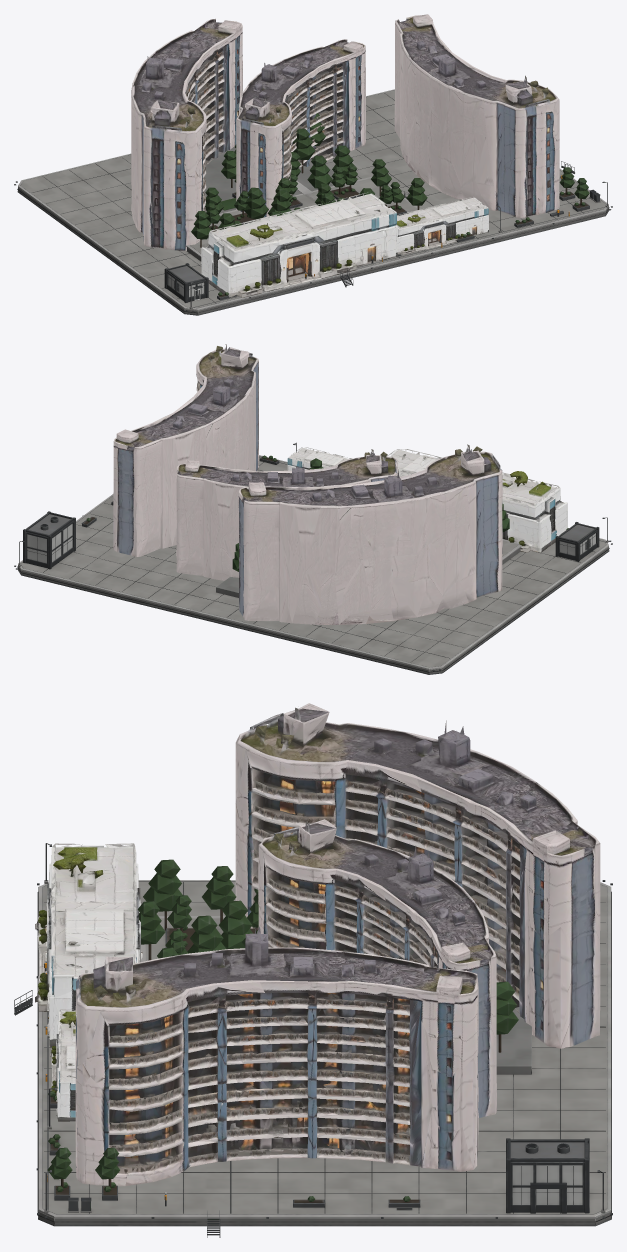
Rendered from residence.glb.
3 views of the same model, one above another, from view 1: azimuth 30°, elevation 25°; view 2: azimuth 150°, elevation 25°; view 3: azimuth 270°, elevation 25° (orthographic). The views are drawn at different scales.
Visible parts, largest first — view 1: parts_colony-curvedTerrace, hull, parts_colony-podiumSegment; view 2: parts_colony-curvedTerrace, hull, parts_colony-podiumSegment; view 3: parts_colony-curvedTerrace, hull, parts_colony-podiumSegment.
Boxes of the visible parts, left/top/right/bottom form: parts_colony-curvedTerrace: left=131, top=14, right=559, bottom=251; hull: left=14, top=89, right=612, bottom=315; parts_colony-podiumSegment: left=201, top=192, right=488, bottom=297; parts_colony-curvedTerrace: left=113, top=344, right=502, bottom=624; hull: left=14, top=442, right=612, bottom=674; parts_colony-podiumSegment: left=287, top=447, right=567, bottom=552; parts_colony-curvedTerrace: left=75, top=703, right=600, bottom=1186; hull: left=14, top=843, right=612, bottom=1237; parts_colony-podiumSegment: left=35, top=843, right=142, bottom=1121.
Size of the model in its own units: 103 by 33.68 by 75.27.
5 materials, 5 textured.
